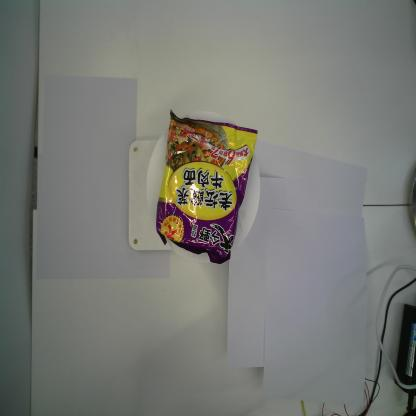Instant Noodles: (155, 106, 259, 268)
